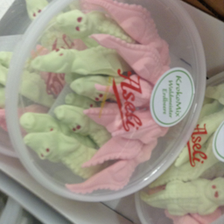candy: (13, 2, 207, 200)
